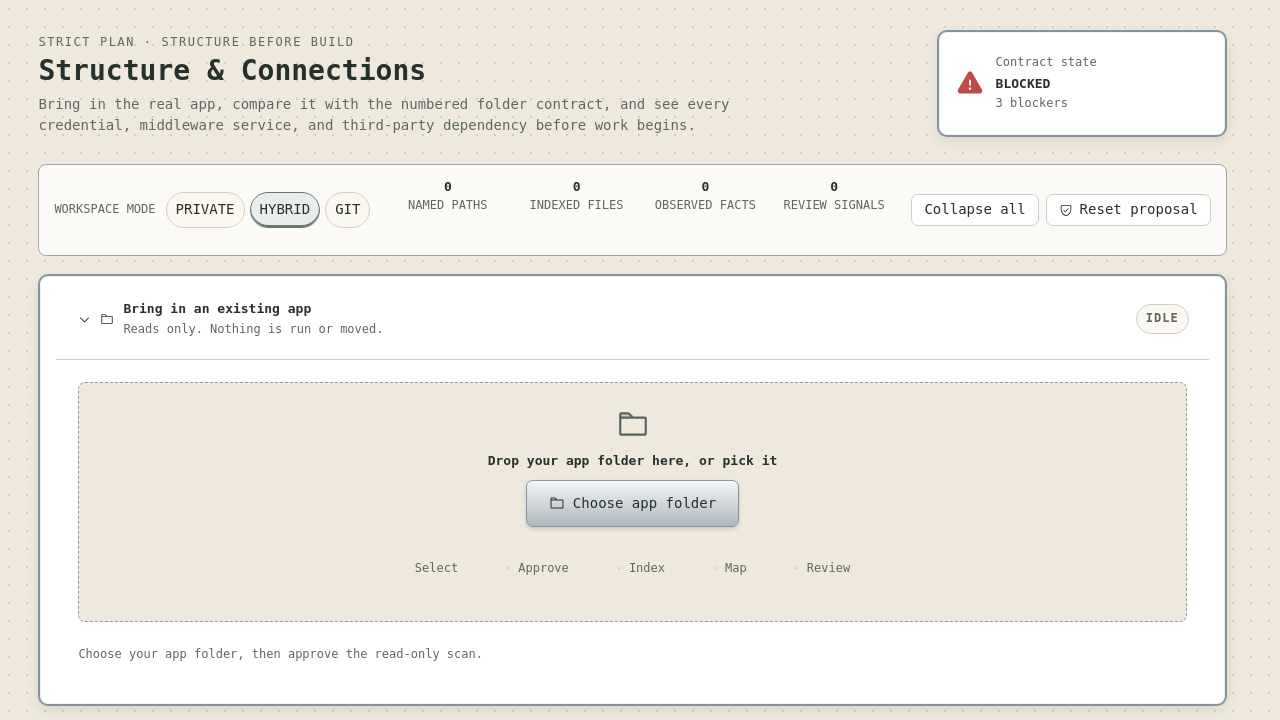
it: Structure workspace runtime resilience › a thrown registration error becomes explicit UI and diagnostics without starting census
The width and height of the screenshot is (1280, 720).
Click the button "Choose app folder".
click(632, 503)  # box [526,480,739,527]
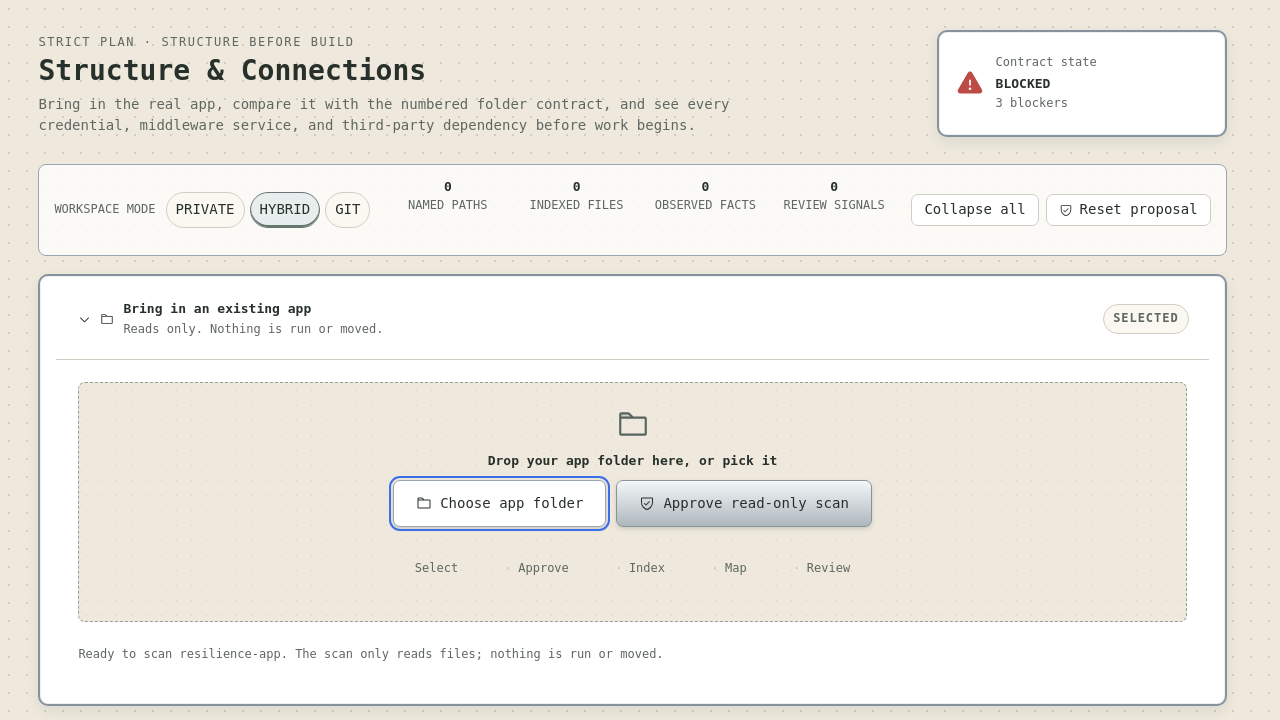
Click the button "Approve read-only scan".
click(744, 503)  # box [616,480,872,527]
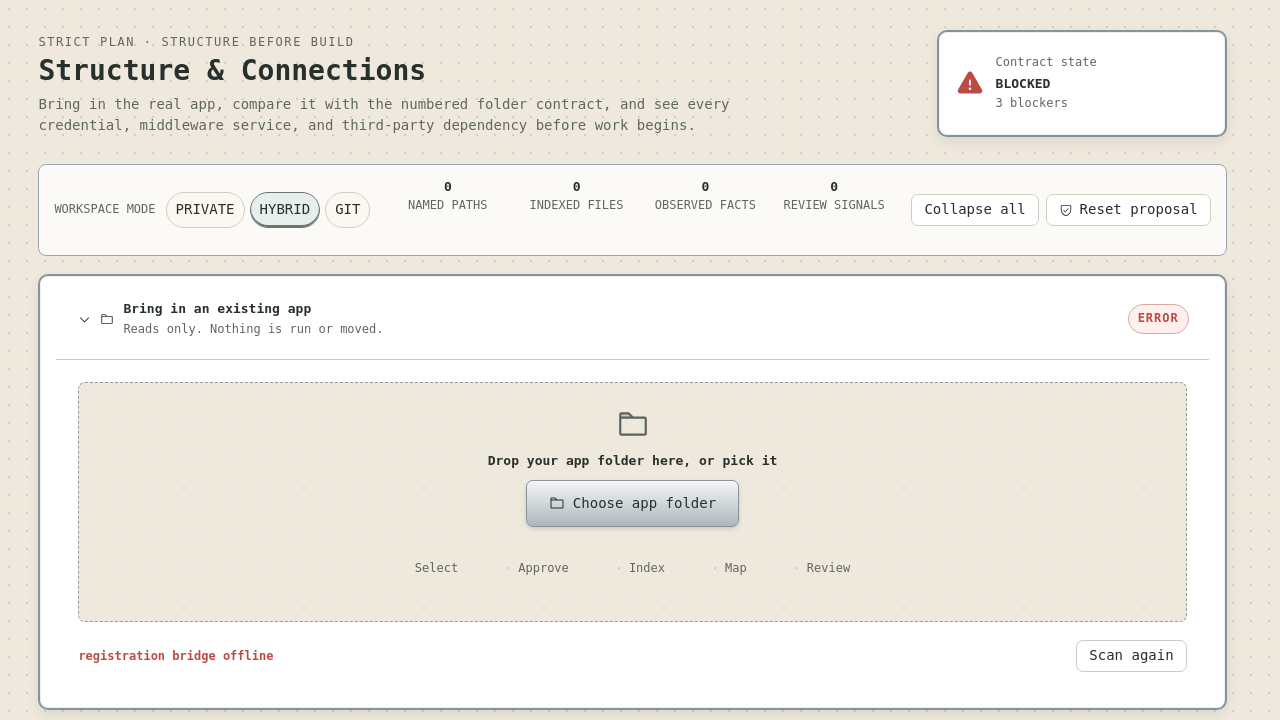
Expected: the text "registration bridge offline" is shown, [78,648,274,665]
Expected: the text "error" is shown, [1128,304,1189,334]
Expected: the button "Scan again" is enabled, [1076,640,1187,672]
